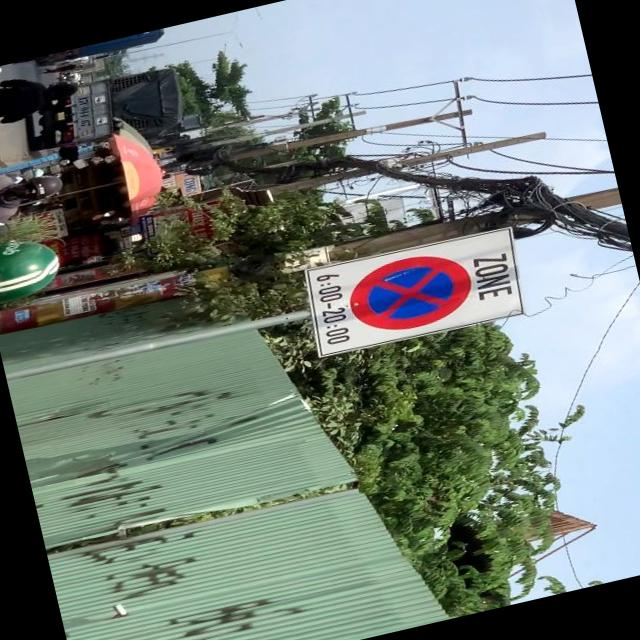P-130: (342, 244, 477, 338)
